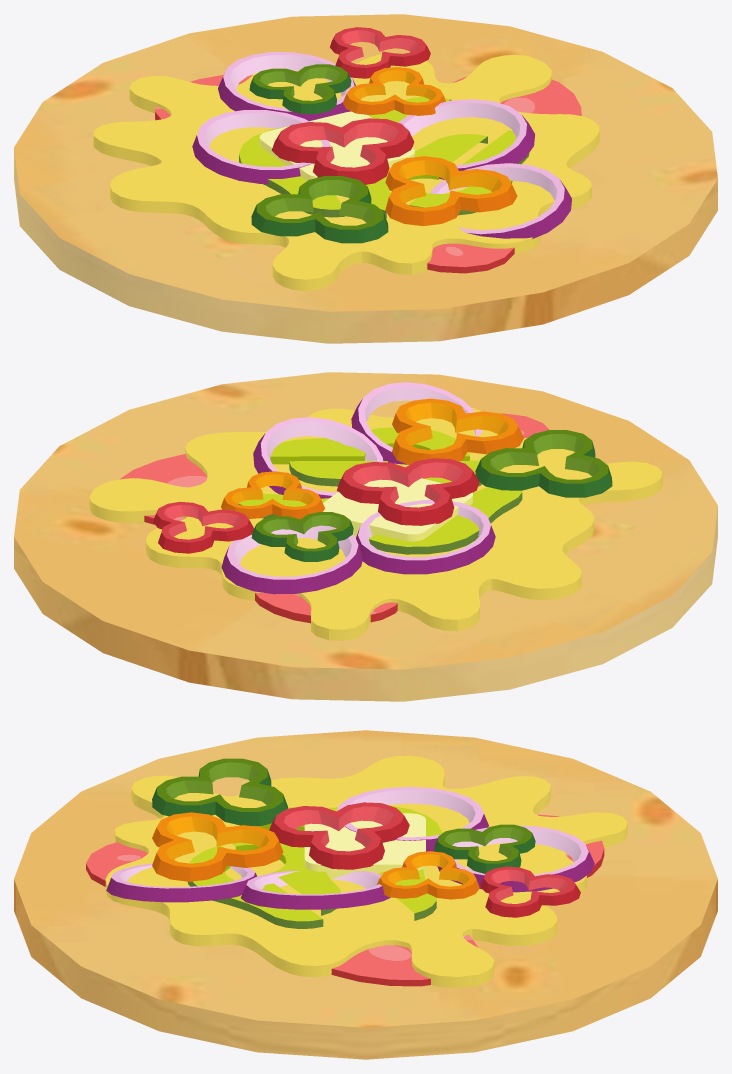
Rendered from taco_Carne_Cebolla_Aguacate_Pimiento_Salsa.glb.
The picture shows the model from 3 angles, top to bottom: view 1: azimuth 30°, elevation 25°; view 2: azimuth 150°, elevation 25°; view 3: azimuth 270°, elevation 25°; orthographic projection.
Visible parts, largest first — view 1: tortilla.002, Melted_Butter_Butter_0, Pepper_Slice_Pepper_0, Pepper_Slice_Pepper_0.001, Onion_Slice_Onion_0, Onion_Slice_Onion_0.001, Avocado_Slice_Avocado_0, Ham_Slice_Ham_0.002; view 2: tortilla.002, Melted_Butter_Butter_0, Pepper_Slice_Pepper_0, Pepper_Slice_Pepper_0.001, Avocado_Slice_Avocado_0, Onion_Slice_Onion_0, Onion_Slice_Onion_0.001, Ham_Slice_Ham_0.002; view 3: tortilla.002, Melted_Butter_Butter_0, Pepper_Slice_Pepper_0, Pepper_Slice_Pepper_0.001, Onion_Slice_Onion_0.001, Avocado_Slice_Avocado_0, Onion_Slice_Onion_0, Ham_Slice_Ham_0.002.
Part boxes in pixels (<box>): tortilla.002: <box>14,14,717,343</box>; Melted_Butter_Butter_0: <box>93,54,599,290</box>; Pepper_Slice_Pepper_0: <box>251,118,517,243</box>; Pepper_Slice_Pepper_0.001: <box>249,27,445,115</box>; Onion_Slice_Onion_0: <box>192,52,355,184</box>; Onion_Slice_Onion_0.001: <box>398,99,571,238</box>; Avocado_Slice_Avocado_0: <box>239,97,529,218</box>; Ham_Slice_Ham_0.002: <box>155,74,581,273</box>; tortilla.002: <box>14,372,717,701</box>; Melted_Butter_Butter_0: <box>89,407,662,640</box>; Pepper_Slice_Pepper_0: <box>337,398,612,525</box>; Pepper_Slice_Pepper_0.001: <box>153,471,353,561</box>; Avocado_Slice_Avocado_0: <box>238,427,522,554</box>; Onion_Slice_Onion_0: <box>221,500,495,594</box>; Onion_Slice_Onion_0.001: <box>253,382,482,498</box>; Ham_Slice_Ham_0.002: <box>120,413,549,623</box>; tortilla.002: <box>14,730,717,1059</box>; Melted_Butter_Butter_0: <box>105,755,627,988</box>; Pepper_Slice_Pepper_0: <box>152,758,409,881</box>; Pepper_Slice_Pepper_0.001: <box>377,824,580,917</box>; Onion_Slice_Onion_0.001: <box>106,863,390,909</box>; Avocado_Slice_Avocado_0: <box>187,805,442,928</box>; Onion_Slice_Onion_0: <box>336,786,594,892</box>; Ham_Slice_Ham_0.002: <box>86,814,604,986</box>.
Bounding box in the file's own units: 0.2118 × 0.0248 × 0.2118.
Materials: 6 (6 with a texture image).
